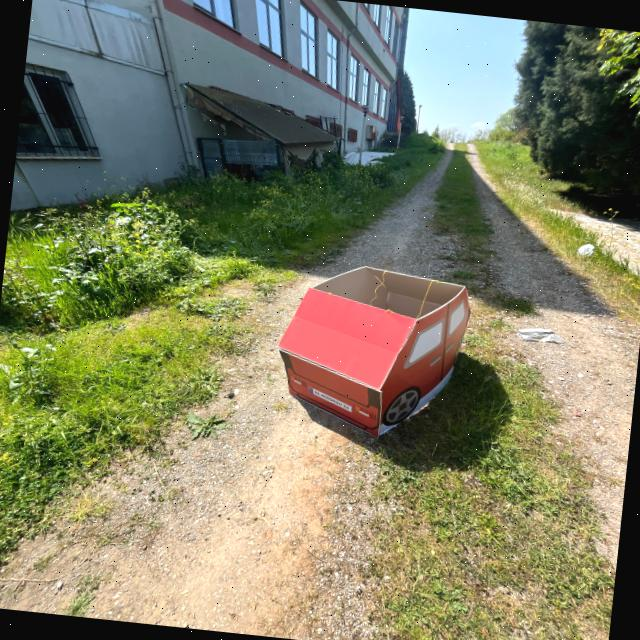red_car: (260, 251, 489, 457)
